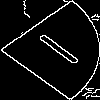I: (25, 25, 84, 67)
